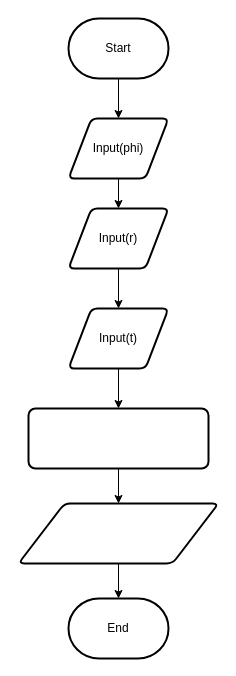
The diagram is 236 pixels wide and 676 high, and some of its shapes have lost their labels. The shapes that lost their labels are listed below. From the top down, each one's centre as x and y in pixels, then its label:
the point at 118,438: Volume_tabung = phi*(r*2)*t
the point at 118,533: Output(volume_tabung)
